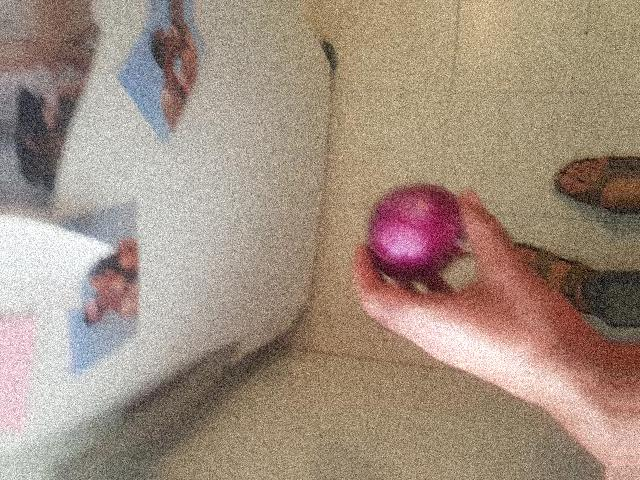onion: (358, 178, 481, 291)
